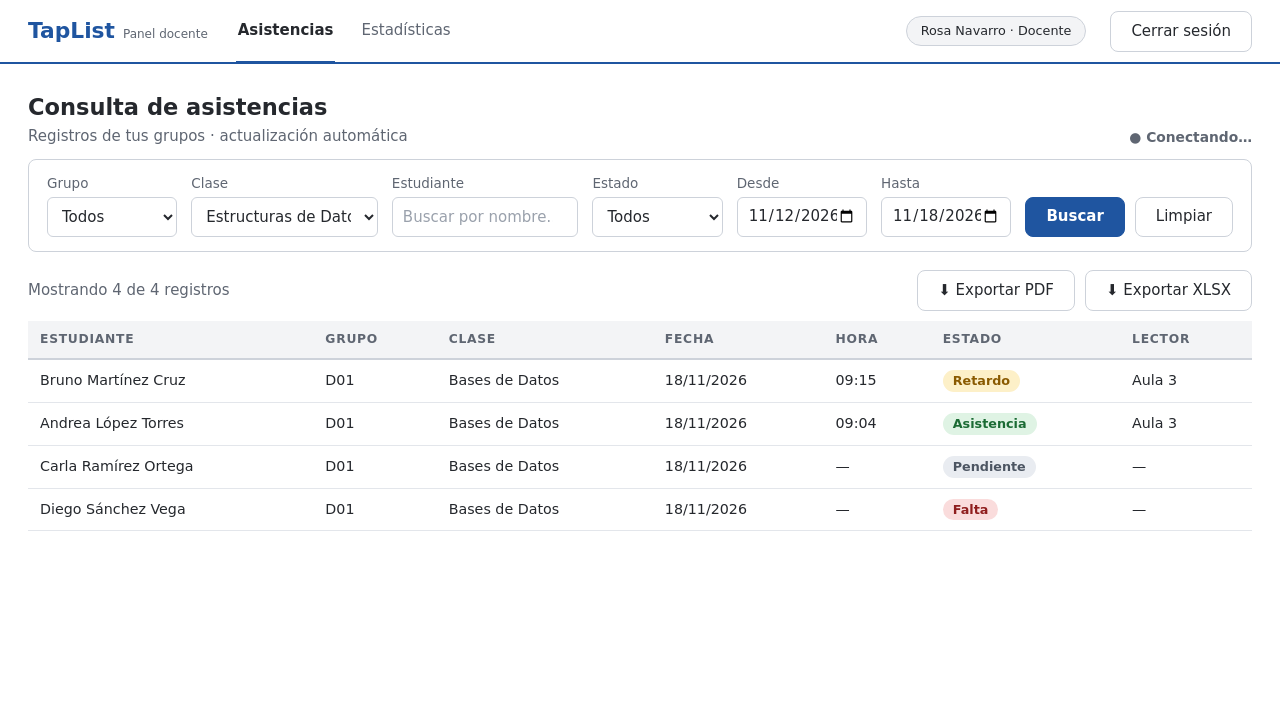
Scenario: P2 · Consulta de asistencias › al cambiar de grupo, una clase de otro grupo se quita del filtro
Check: the text "Mostrando 4 de 4 registros" is shown, box [28,280,230,301]
Check: the dropdown labelled "Clase" shows "Estructuras de Datos · D02", box [191,197,378,237]
Select "D01" in the dropdown labelled "Grupo" at x=112, y=217, box [47,197,177,237]
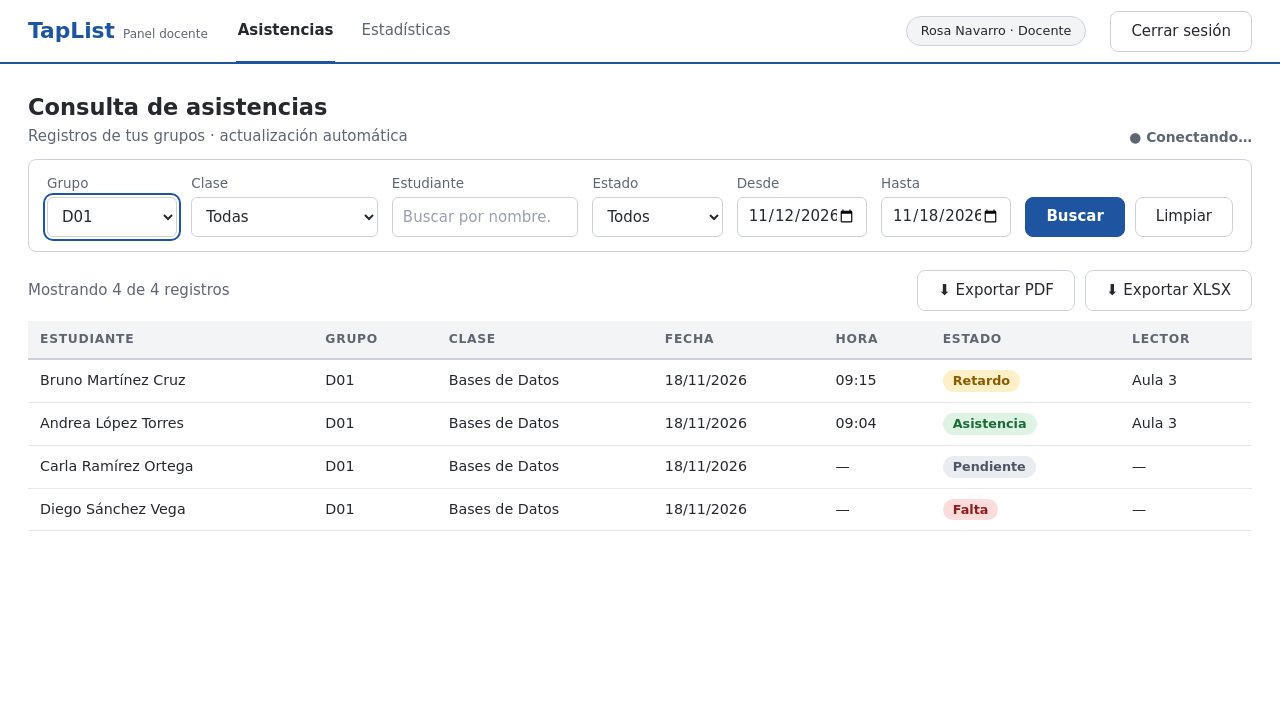
Check: the dropdown labelled "Clase" shows "Todas", box [191,197,378,237]
